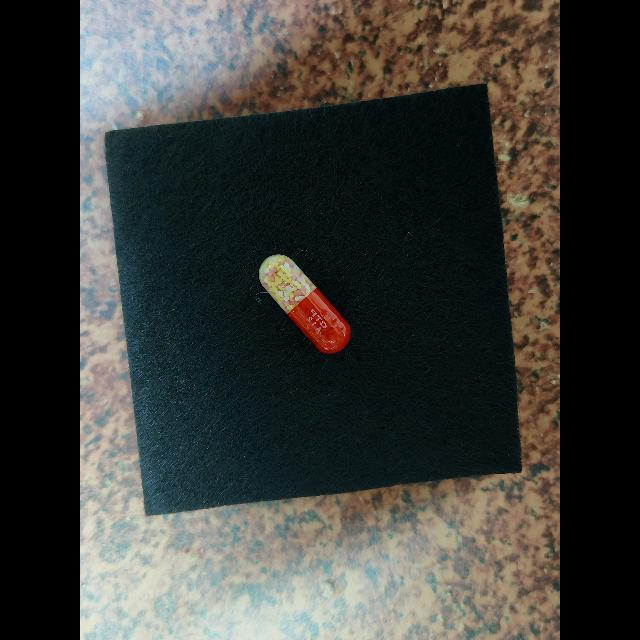Intact Capsule: (259, 254, 351, 354)
